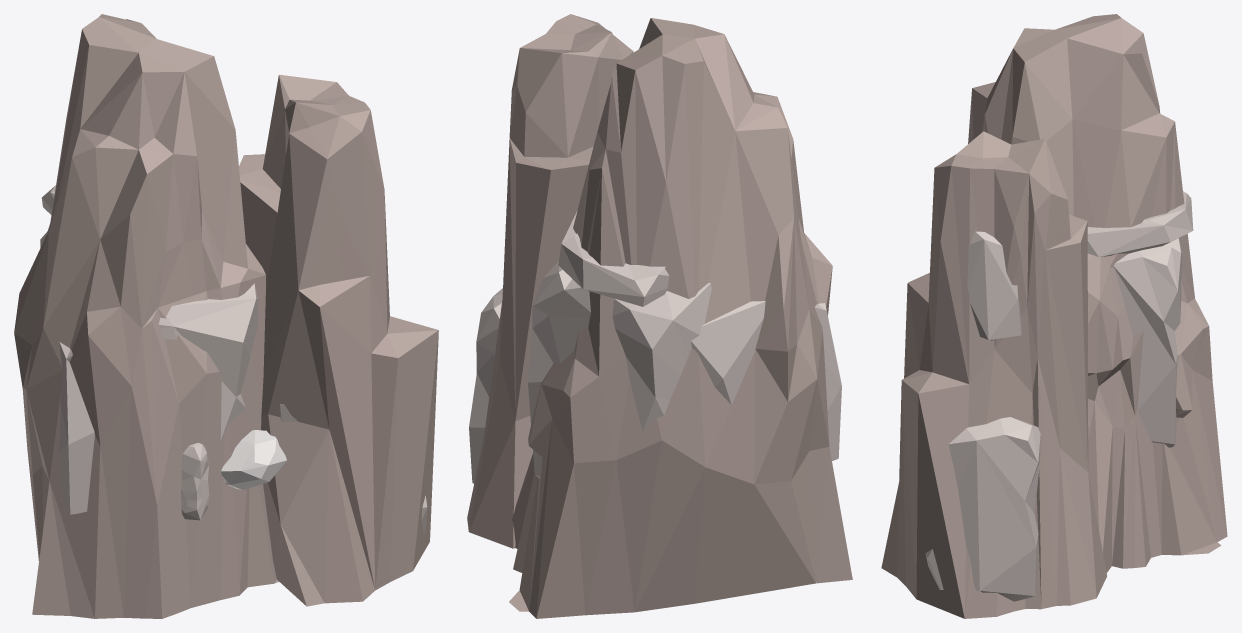
Rendered from rock_022.fbx.
3 renders of one model, left to right at view 1: azimuth 30°, elevation 25°; view 2: azimuth 150°, elevation 25°; view 3: azimuth 270°, elevation 25°, orthographic. The views are drawn at different scales.
Parts seen in each view (by area): view 1: rock.022; view 2: rock.022; view 3: rock.022.
Boxes of the visible parts, bbox=[...] form: rock.022: bbox=[14, 14, 438, 618]; rock.022: bbox=[467, 14, 852, 618]; rock.022: bbox=[881, 14, 1227, 618].
Bounding box in the file's own units: 2168 × 2938 × 1866.
Materials: 1 (1 with a texture image).
